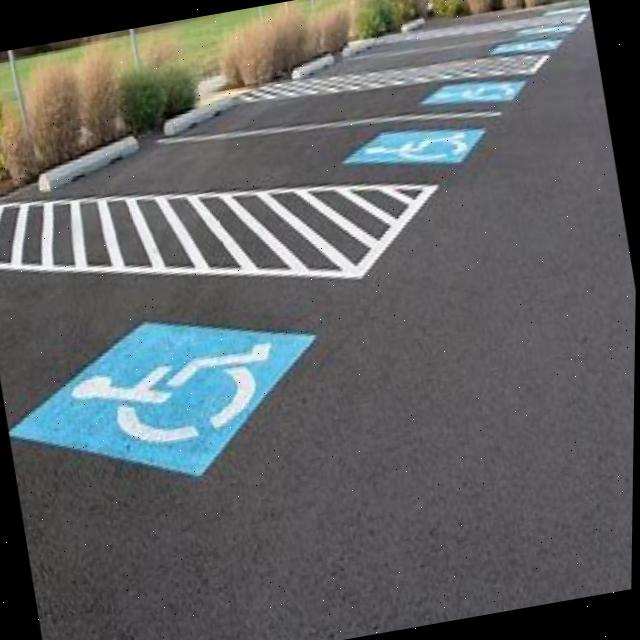symbol_of_access: (64, 322, 291, 468), (359, 116, 471, 178)
